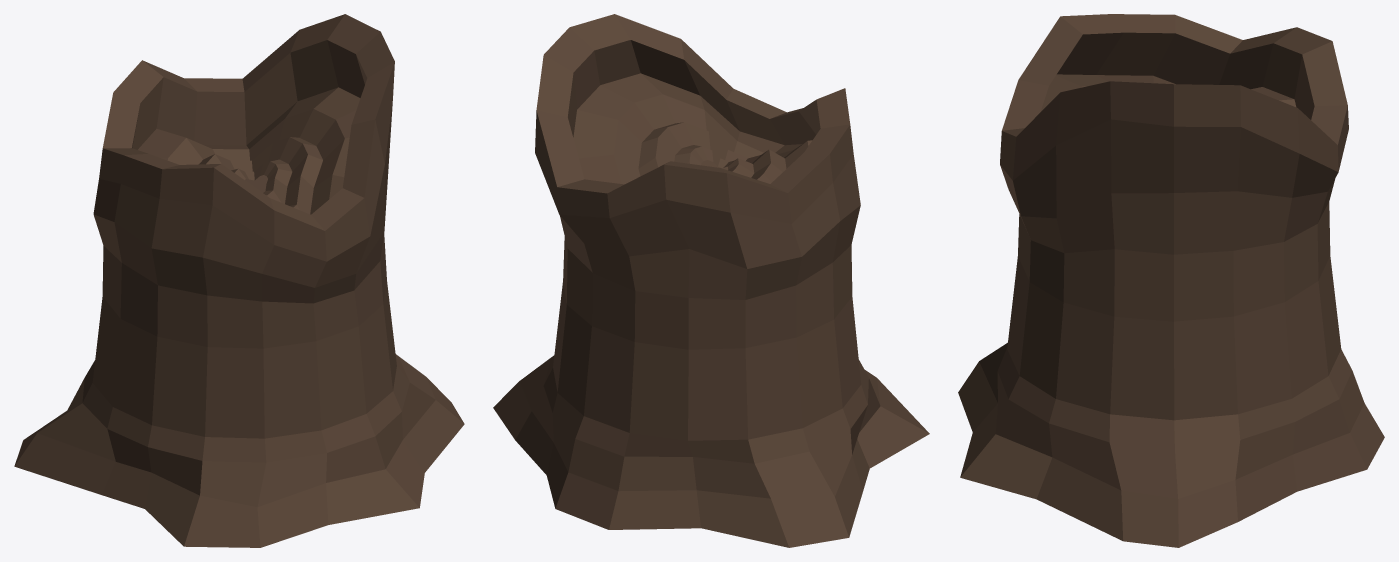
The model's file is tree stump.fbx.
3 renders of one model, left to right at view 1: azimuth 30°, elevation 25°; view 2: azimuth 150°, elevation 25°; view 3: azimuth 270°, elevation 25°, orthographic. The views are drawn at different scales.
Visible parts, largest first — view 1: Cylinder.002; view 2: Cylinder.002; view 3: Cylinder.002.
Boxes of the visible parts, bbox=[...] form: Cylinder.002: bbox=[14, 14, 464, 547]; Cylinder.002: bbox=[493, 14, 929, 547]; Cylinder.002: bbox=[958, 14, 1384, 547].
Size of the model in its own units: 122 by 116 by 105.
